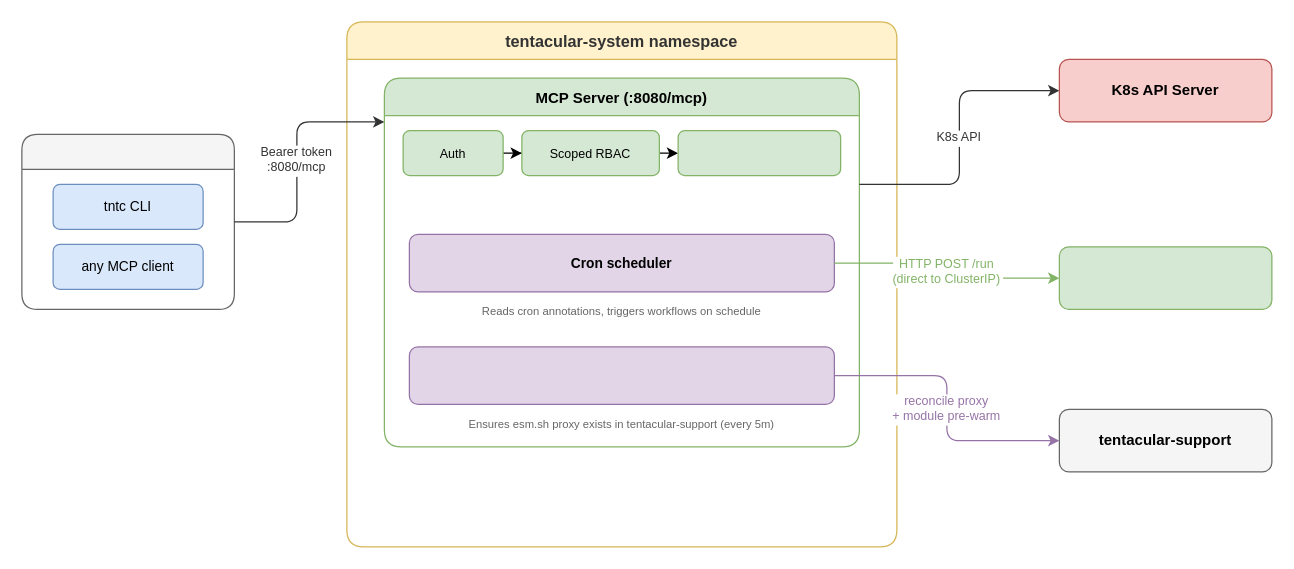
Image size: 1294x569. Some labels were removed from this diagram. The shapes that lost their labels are listed below. From the top down, each one's box as (x1, y1, x2, y2) in pixels, then its label:
(677, 129, 841, 176): 32 MCP tools
(21, 133, 234, 309): External Clients
(1058, 246, 1272, 309): Workflow namespaces
(408, 346, 834, 404): Proxy reconciler
